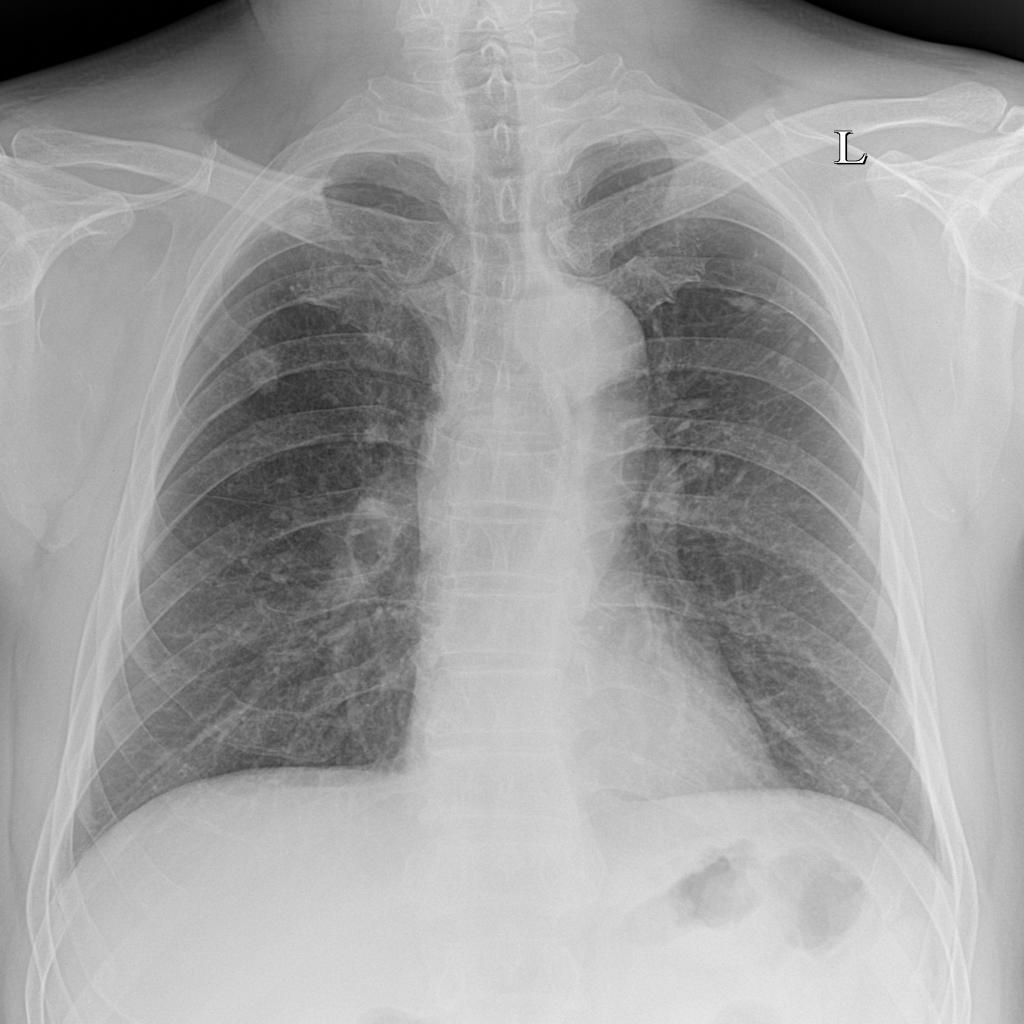Nodule: (702, 261, 825, 356), (238, 341, 287, 398), (359, 419, 397, 449), (287, 209, 322, 234)
